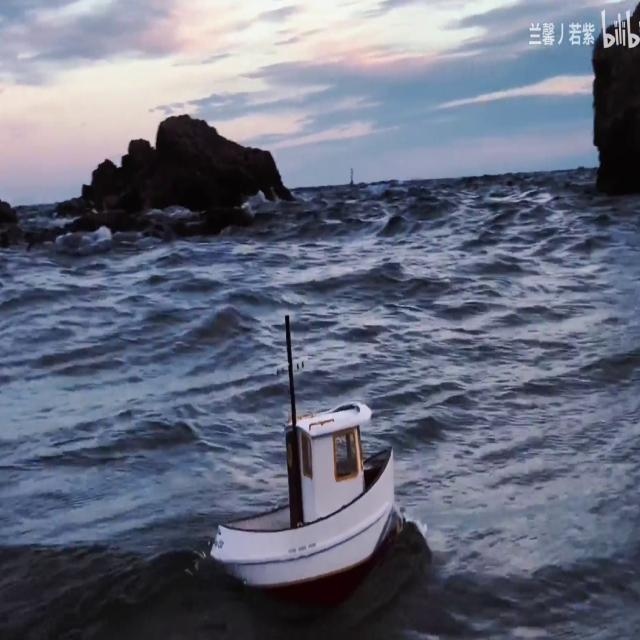houseboat: (214, 323, 402, 588)
